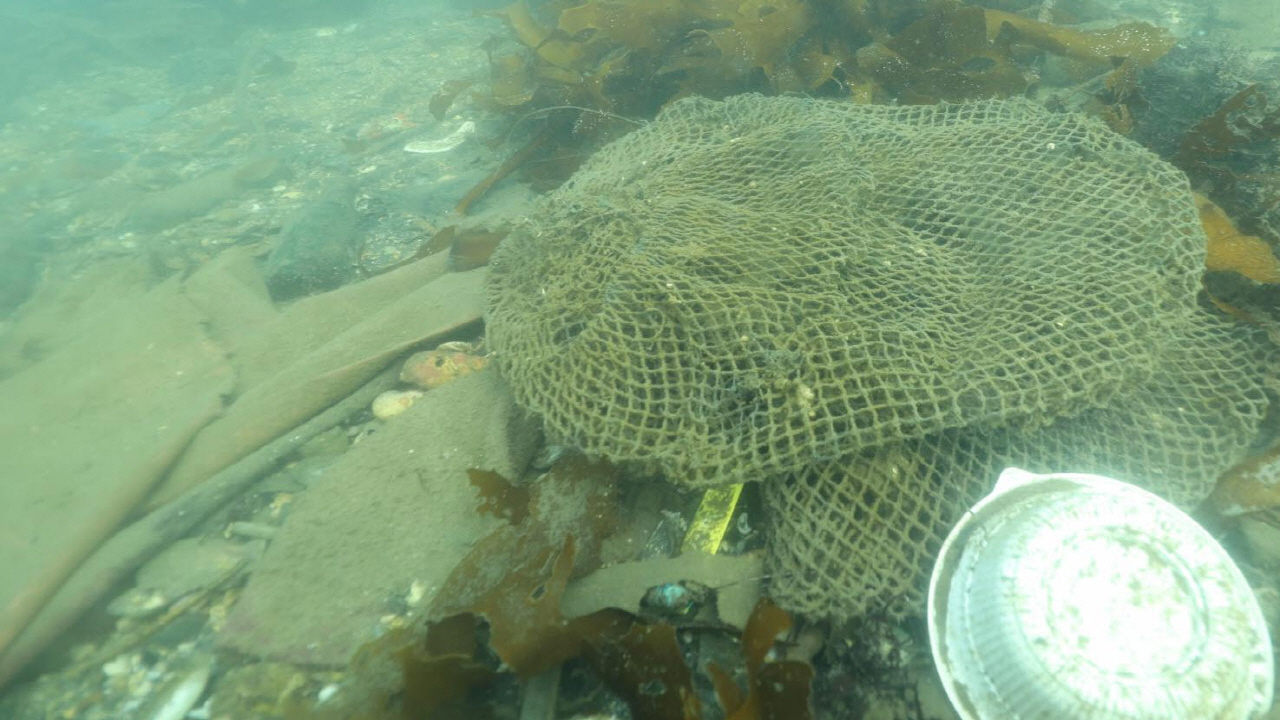fish net: (483, 90, 1270, 627)
